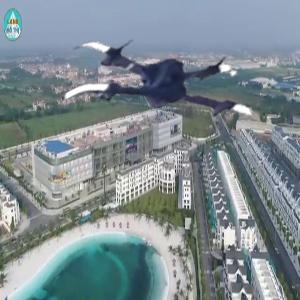drone: (62, 8, 250, 196)
